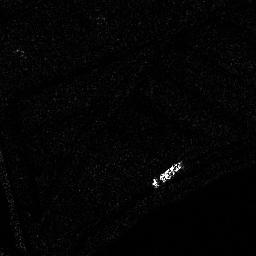ship: (148, 160, 185, 187)
